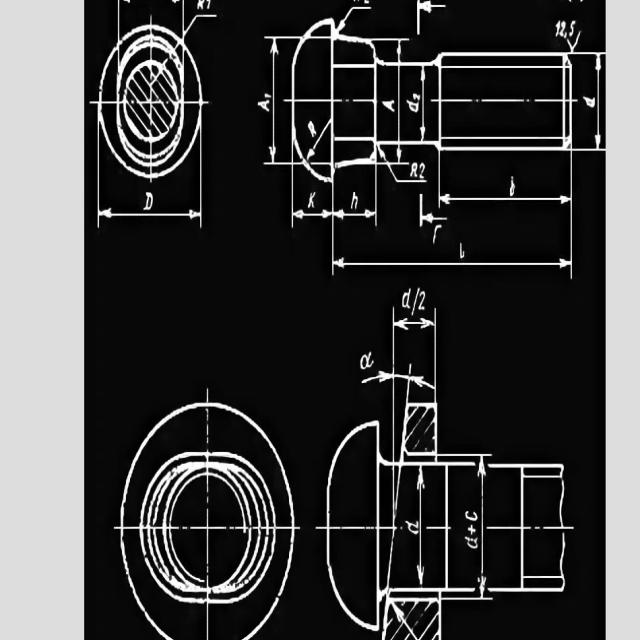marking_line: (329, 187, 575, 283), (437, 154, 576, 210), (94, 183, 209, 228), (392, 307, 438, 402), (260, 31, 291, 169), (574, 47, 605, 153), (336, 172, 380, 230), (363, 369, 438, 402), (290, 185, 335, 231), (379, 147, 428, 187), (477, 457, 487, 594), (414, 0, 447, 39), (418, 193, 449, 230), (287, 162, 303, 231), (392, 306, 399, 462), (417, 468, 426, 586), (338, 5, 373, 33), (307, 121, 331, 160), (419, 68, 428, 139), (381, 38, 410, 60)
numeric: (569, 19, 578, 38), (555, 20, 561, 38), (560, 21, 566, 37)
special_symbol: (566, 31, 581, 51), (466, 522, 476, 536), (564, 32, 567, 39)
